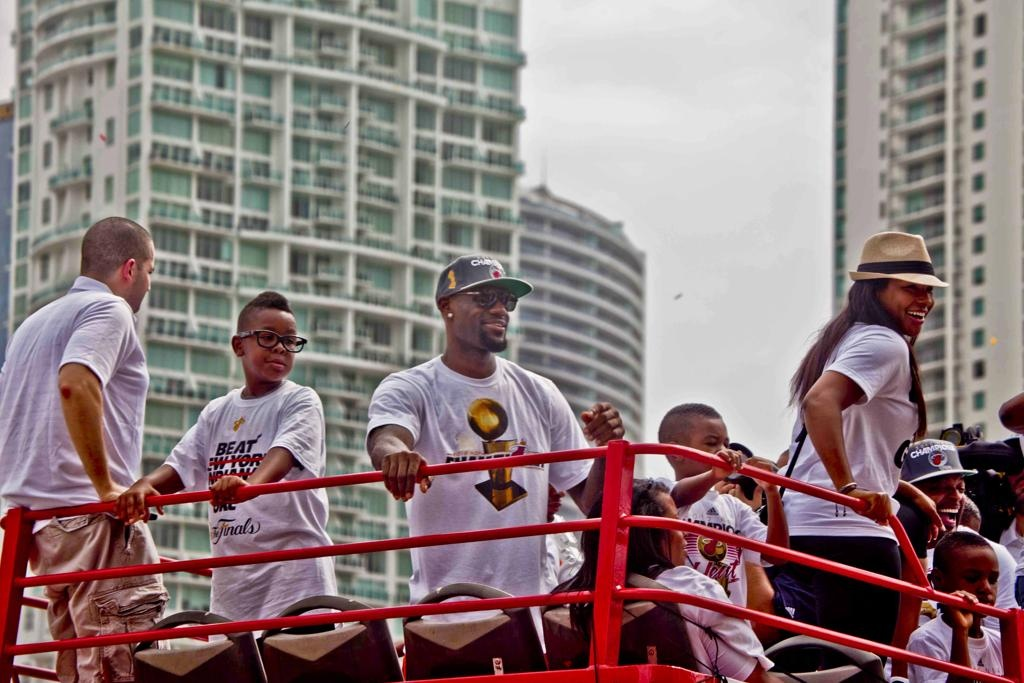human_face: (630, 489, 686, 565), (452, 277, 508, 351), (877, 270, 935, 336), (942, 550, 998, 616), (243, 313, 297, 381), (914, 474, 964, 536), (115, 238, 153, 312), (518, 462, 564, 522), (682, 422, 728, 476)
